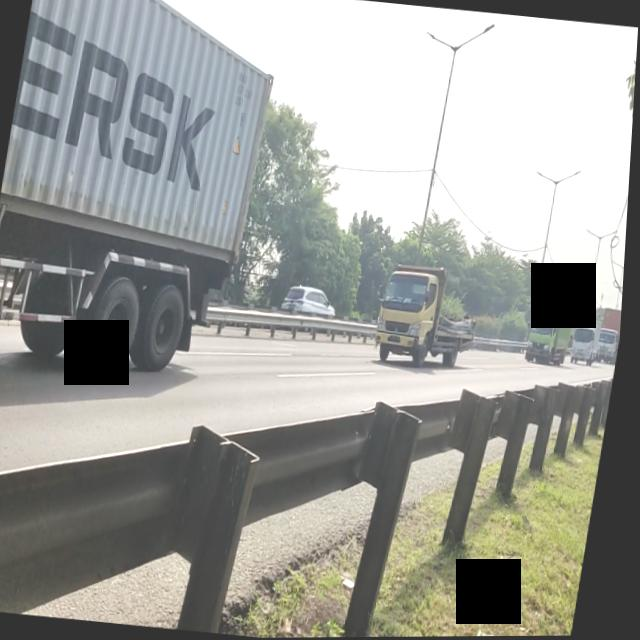Golongan II: (369, 256, 491, 378)
